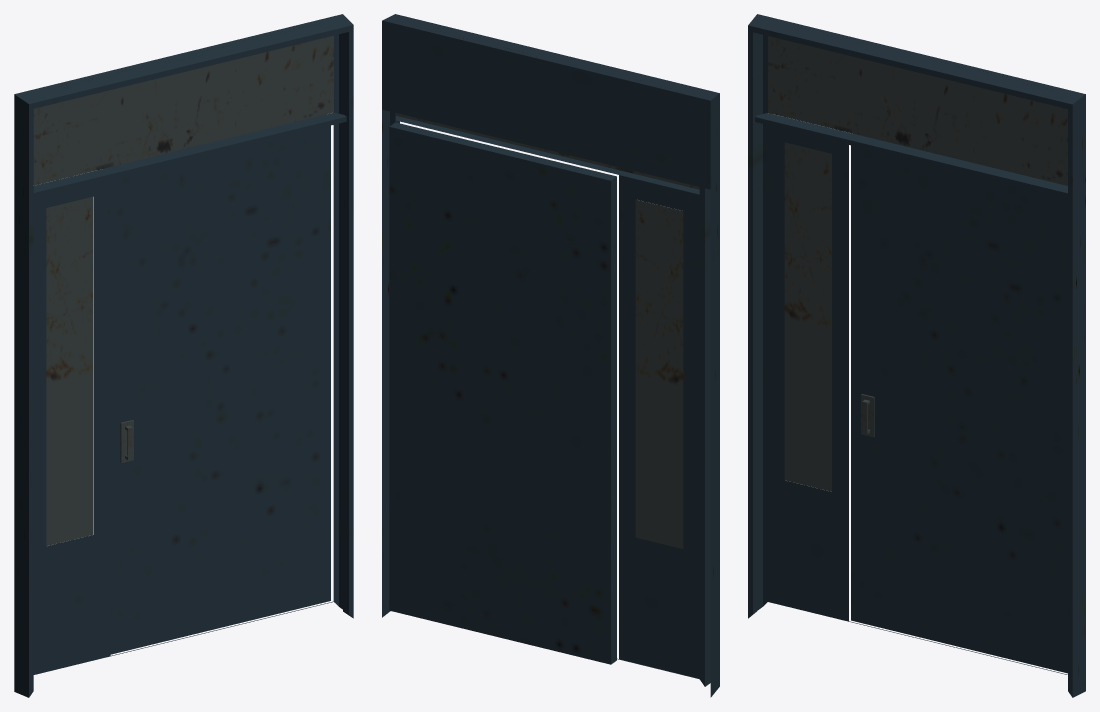
Rendered from puerta2.fbx.
3 renders of one model, left to right at view 1: azimuth 30°, elevation 25°; view 2: azimuth 150°, elevation 25°; view 3: azimuth 330°, elevation 25°, orthographic.
Visible parts, largest first — view 1: Cube, Ventana_Puerta, manija; view 2: Cube, Ventana_Puerta; view 3: Cube, Ventana_Puerta, manija.
Boxes of the visible parts, x1,y1,x2,y2 form: Cube: (110, 125, 330, 654); Ventana_Puerta: (14, 14, 353, 697); manija: (120, 420, 133, 463); Cube: (389, 122, 616, 664); Ventana_Puerta: (382, 14, 719, 697); Cube: (851, 145, 1067, 673); Ventana_Puerta: (748, 14, 1085, 697); manija: (861, 394, 874, 437).
Bounding box in the file's own units: 396 × 687 × 36.21.
3 materials, 3 textured.
